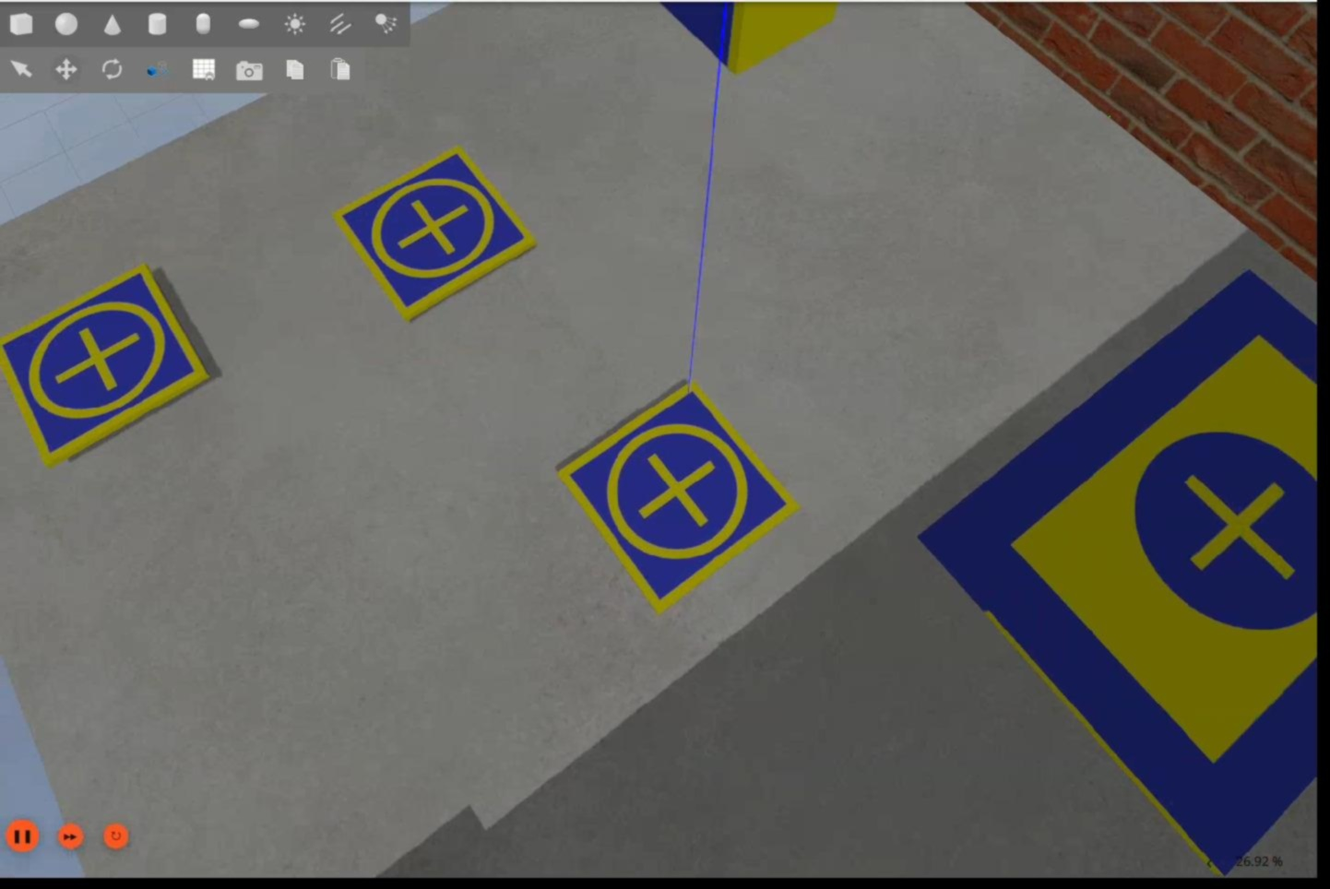large_base: (914, 266, 1319, 878)
small_base: (554, 378, 806, 612), (1, 264, 212, 468), (333, 145, 540, 326)
